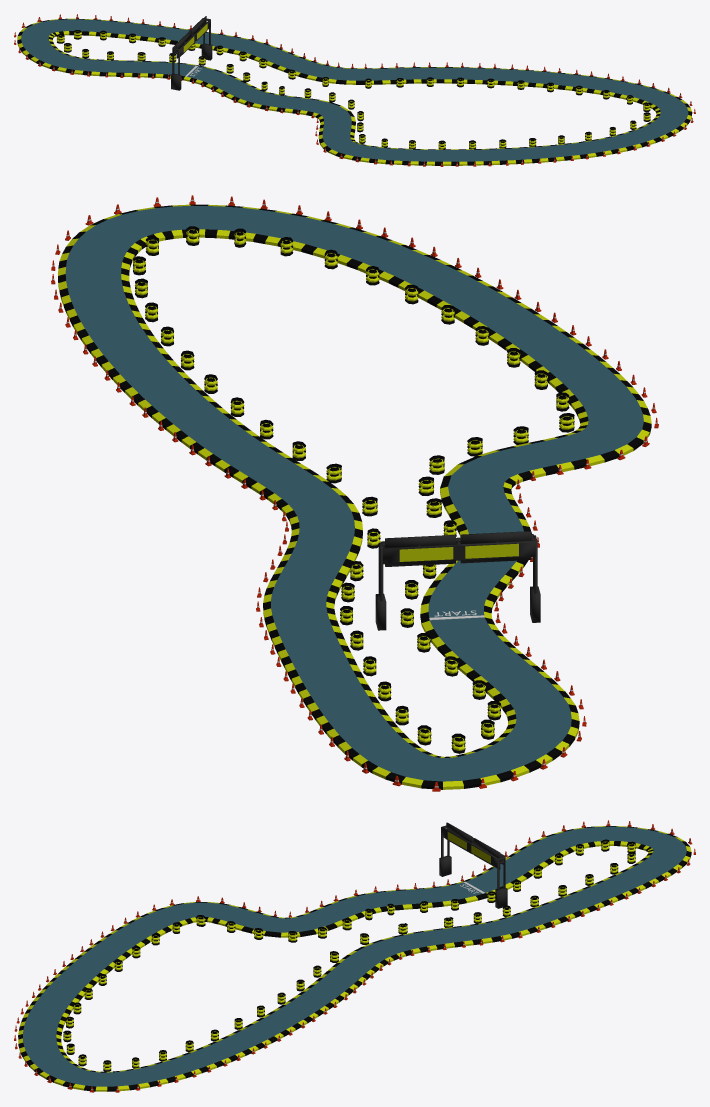
Rendered from Track_03.obj.
The picture shows the model from 3 angles, top to bottom: view 1: azimuth 30°, elevation 25°; view 2: azimuth 150°, elevation 25°; view 3: azimuth 270°, elevation 25°; orthographic projection. The views are drawn at different scales.
Parts seen in each view (by area): view 1: Plane.004_Plane.016; view 2: Plane.004_Plane.016; view 3: Plane.004_Plane.016.
Part boxes in pixels (bbox=[...]): Plane.004_Plane.016: bbox=[14, 14, 695, 166]; Plane.004_Plane.016: bbox=[51, 195, 658, 791]; Plane.004_Plane.016: bbox=[14, 820, 695, 1092].
Size of the model in its own units: 9.32 by 0.8697 by 10.05.
